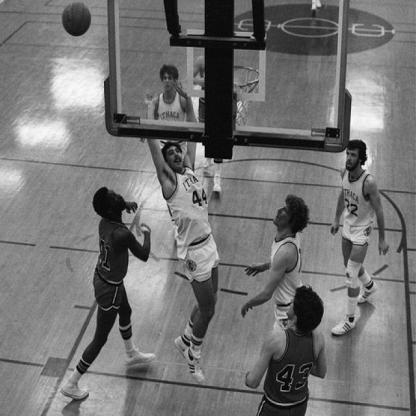basketball: (60, 0, 91, 37)
rim: (233, 64, 264, 90)
